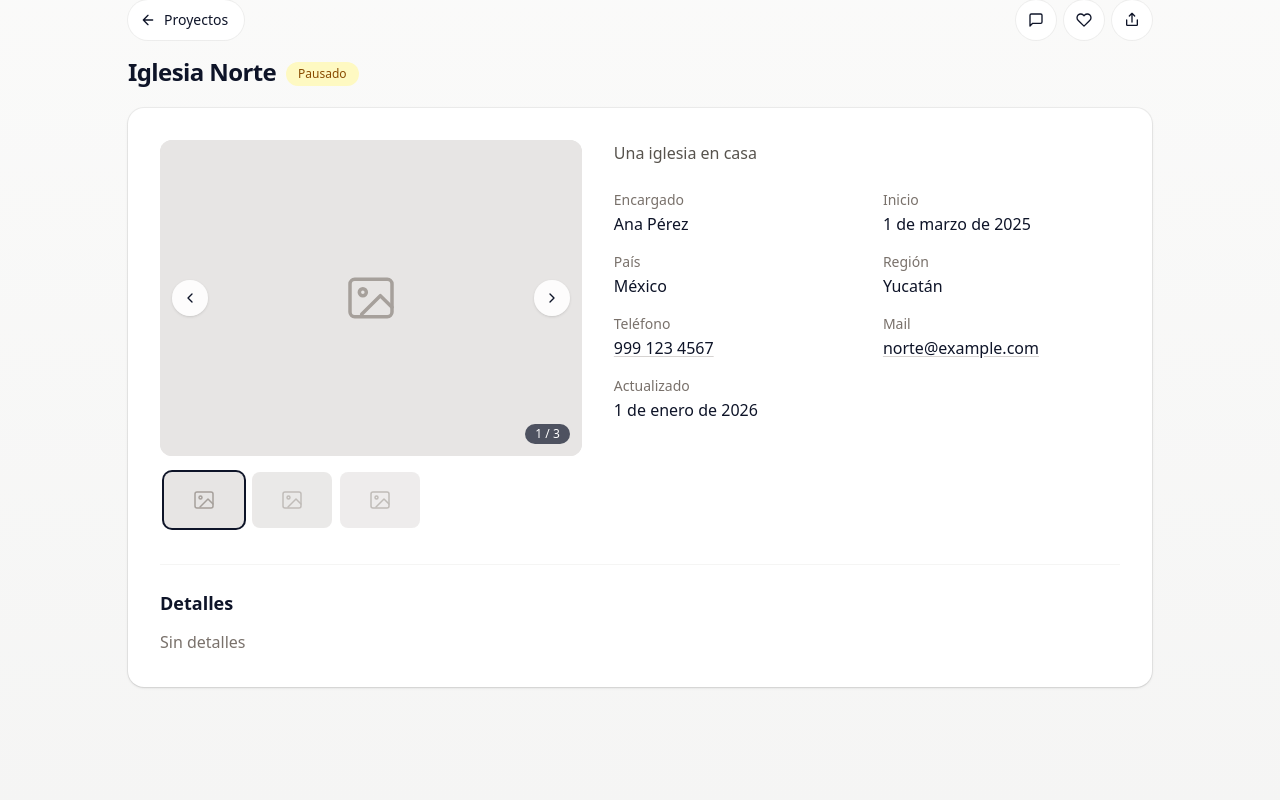
Test: ProjectDetailPage › send message › opens the composer for members, sends and confirms with a link to the inbox
Expected: the heading "Iglesia Norte" is shown, [128,56,276,88]
Step 1. Click the button named "Enviar mensaje" → [1036, 20], box [1016,0,1056,40]
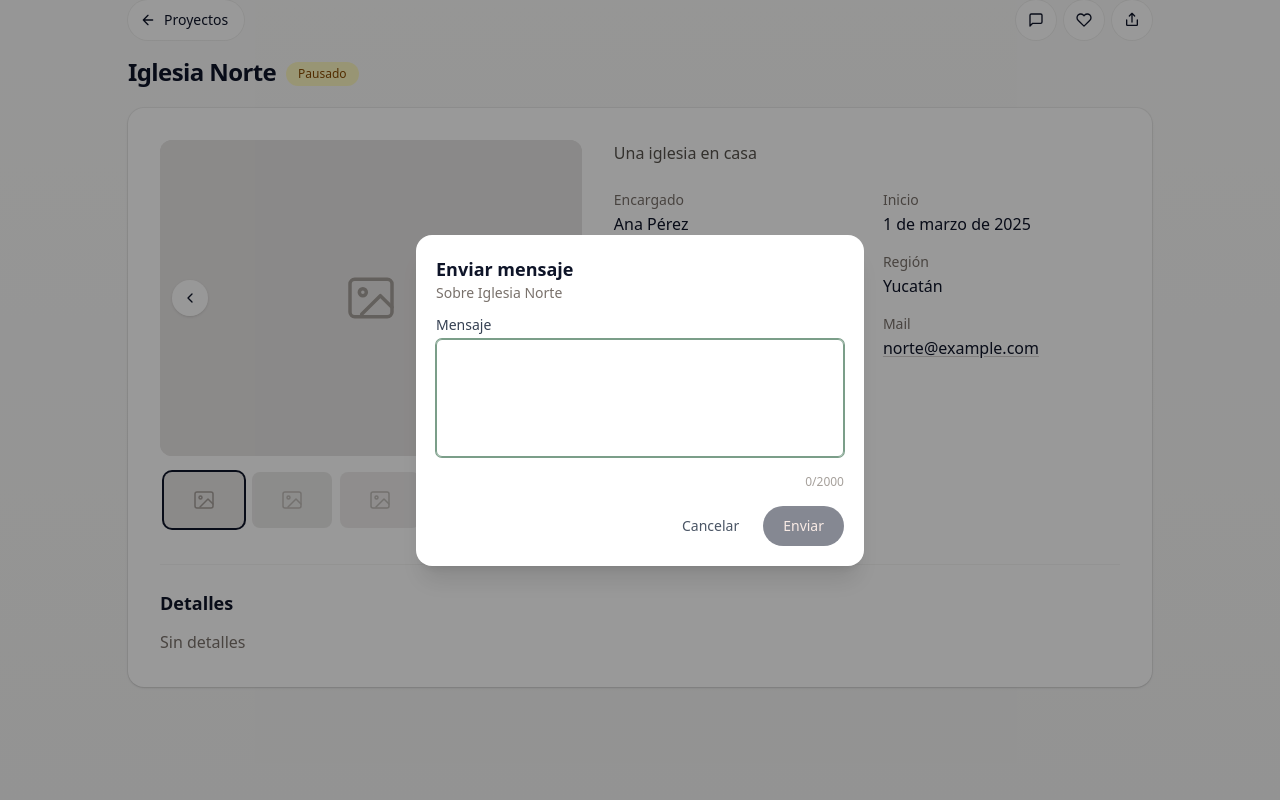
Now the dialog "Enviar mensaje" shows "Sobre Iglesia Norte", box [436,282,562,302]
Step 2. Type "Hola, me interesa" into the text box labelled "Mensaje" → [640, 398], box [436,338,844,456]
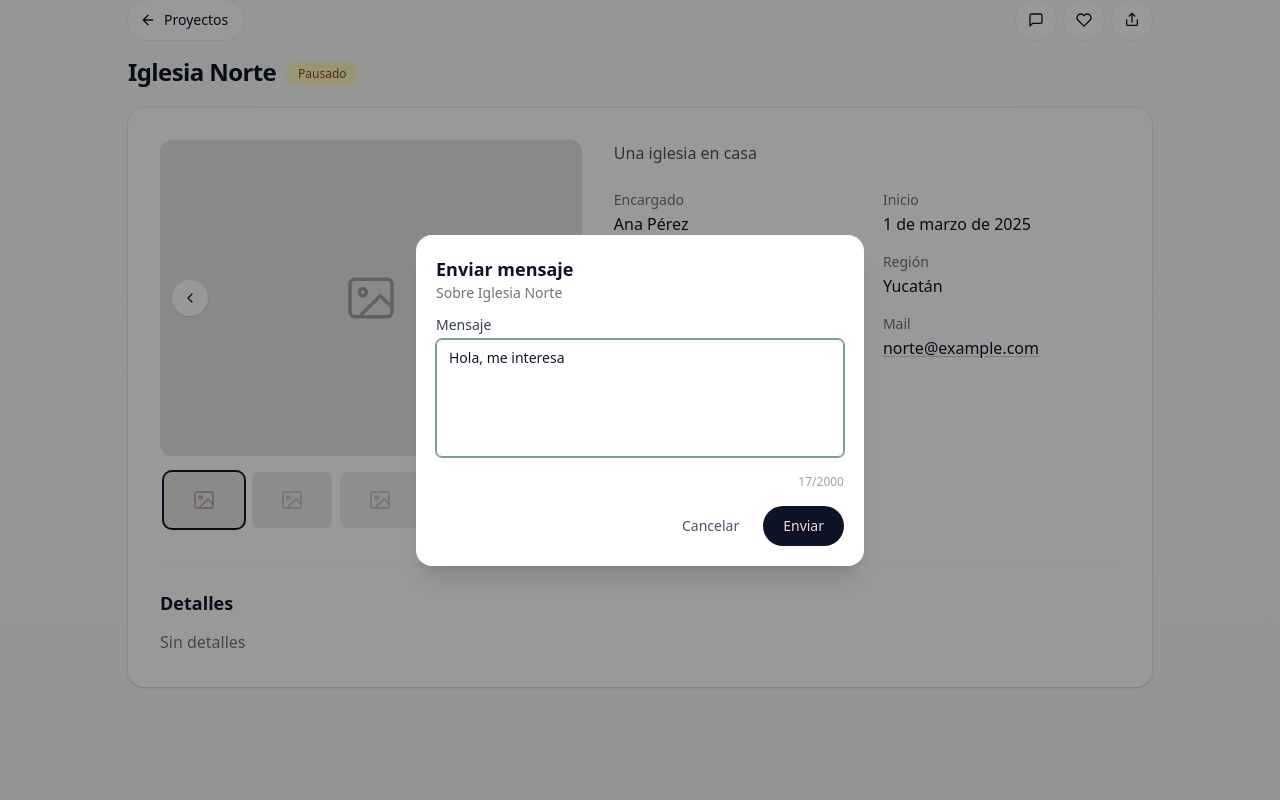
Step 3. Click the button "Enviar" → [804, 526], box [763,506,844,546]
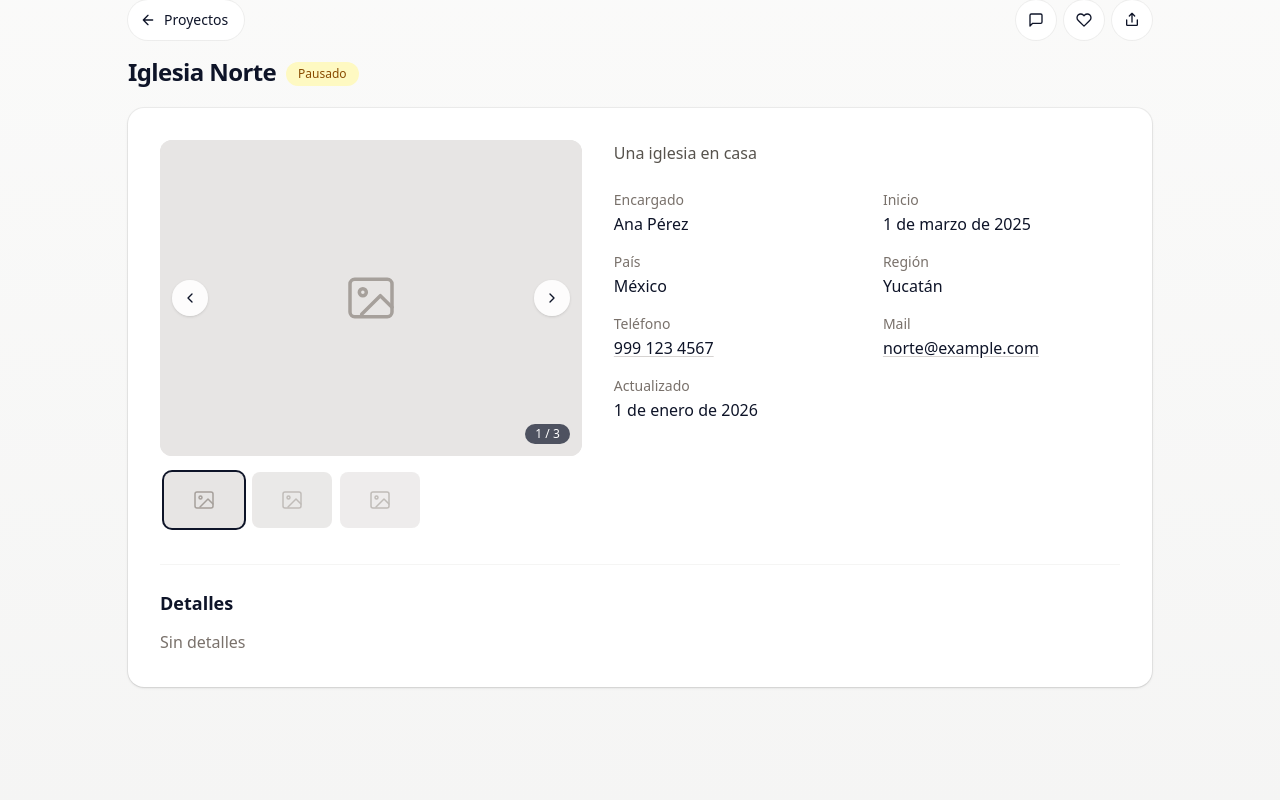
Now the dialog is gone
